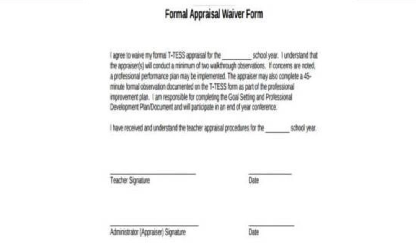textline: (106, 215, 201, 228), (107, 165, 198, 177), (244, 215, 299, 229), (244, 165, 294, 177), (221, 50, 253, 61), (264, 123, 291, 135)
